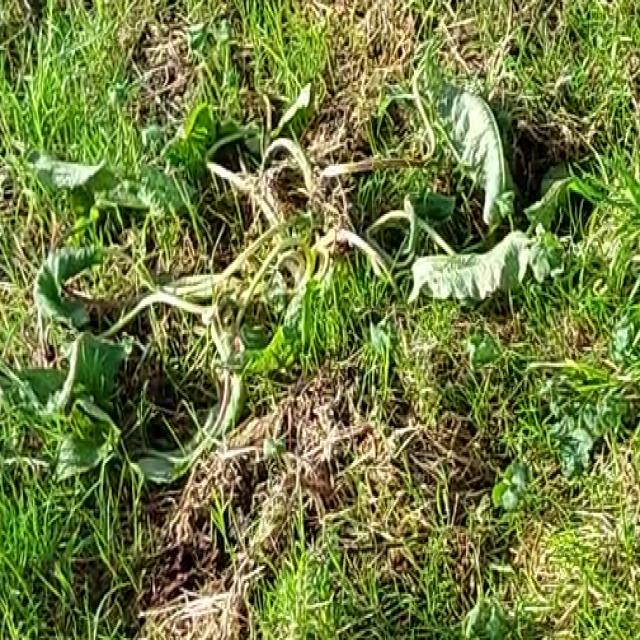organic waste: (5, 66, 574, 498)
